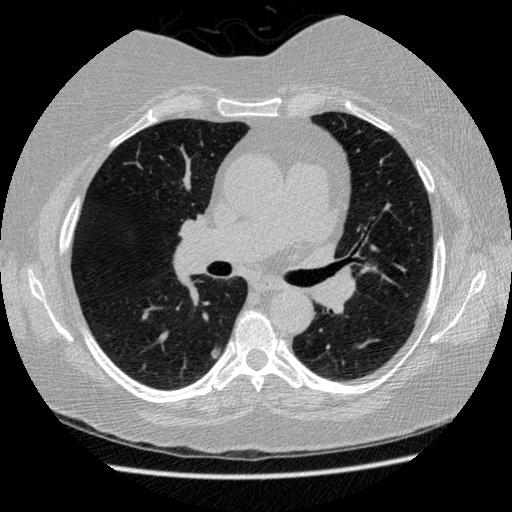nodule: (209, 347, 222, 360)
